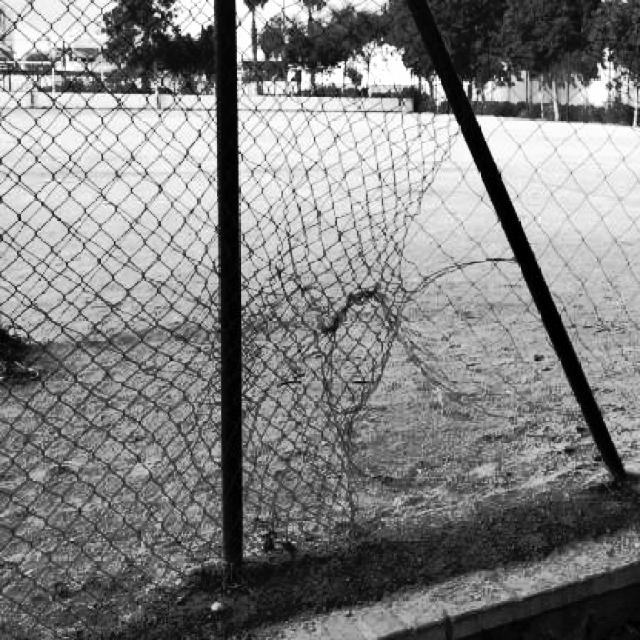anomaly-fence: (274, 29, 610, 541)
